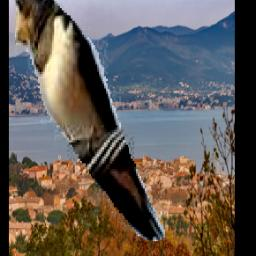Swallow: (11, 0, 166, 242)
